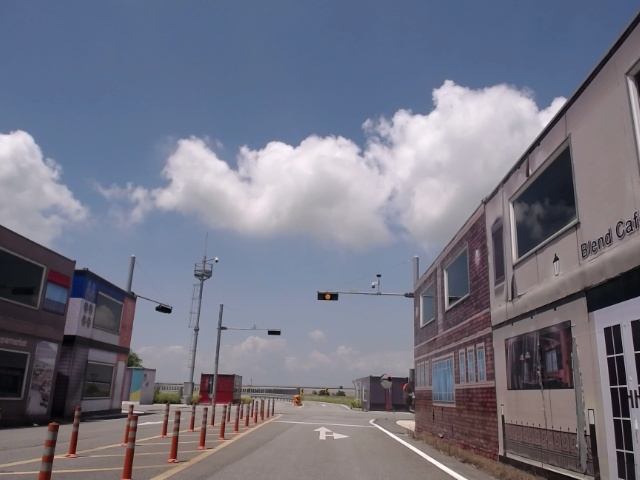orange_3: (317, 292, 339, 301)
